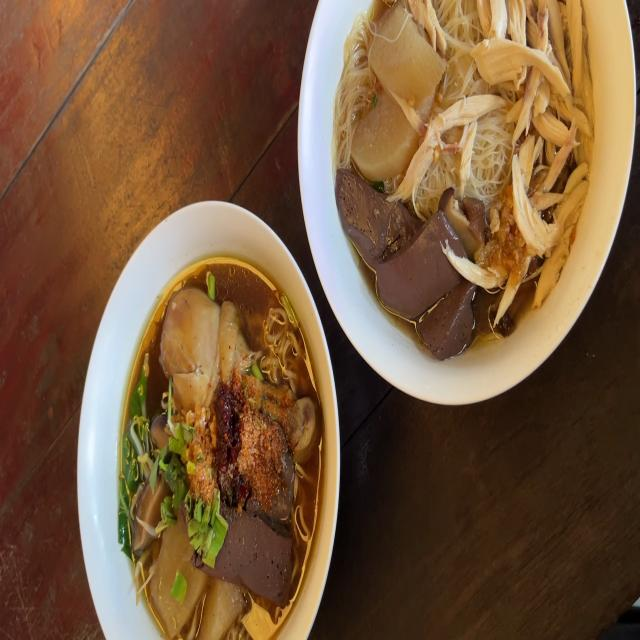noodle: (340, 0, 608, 344), (111, 274, 316, 626)
